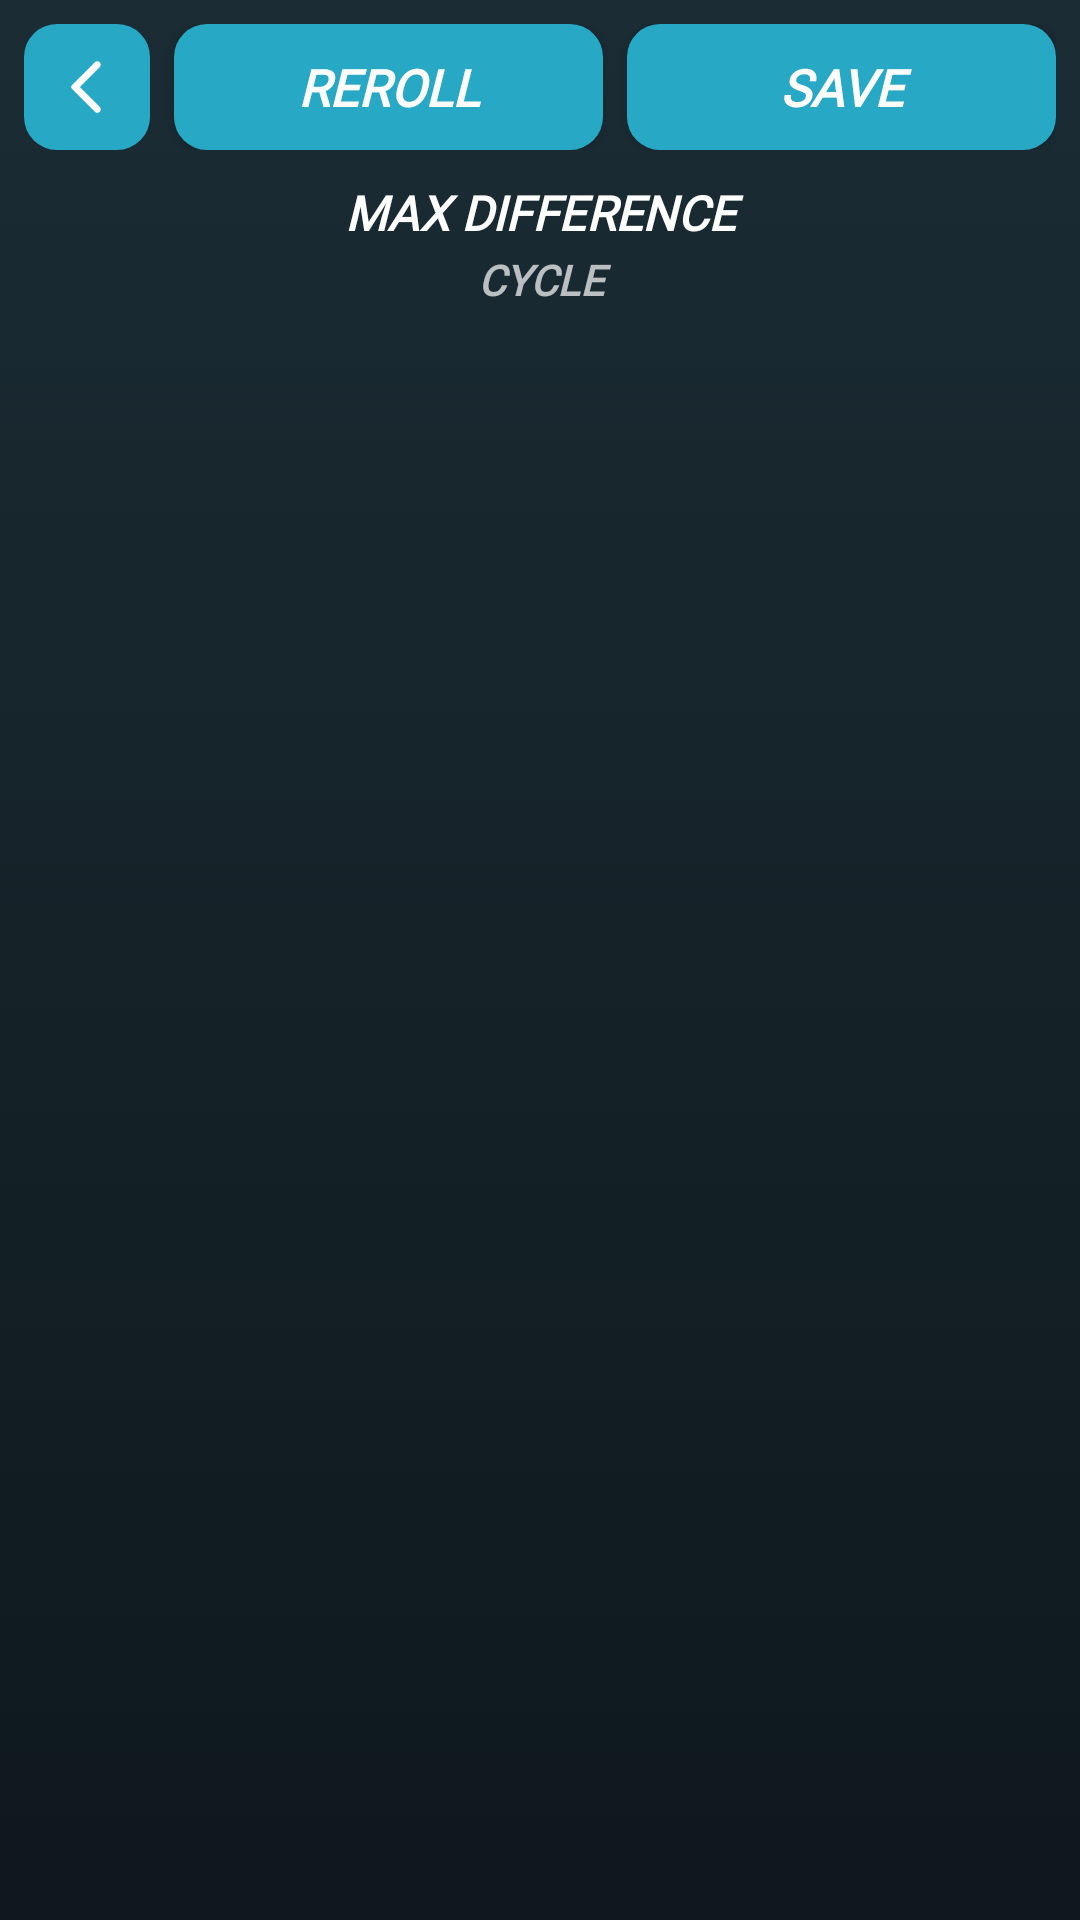

Named icons in this screenshot (1080w x 1920h) and their centers, (x=x, y=y):
BACK: (x=87, y=87)
